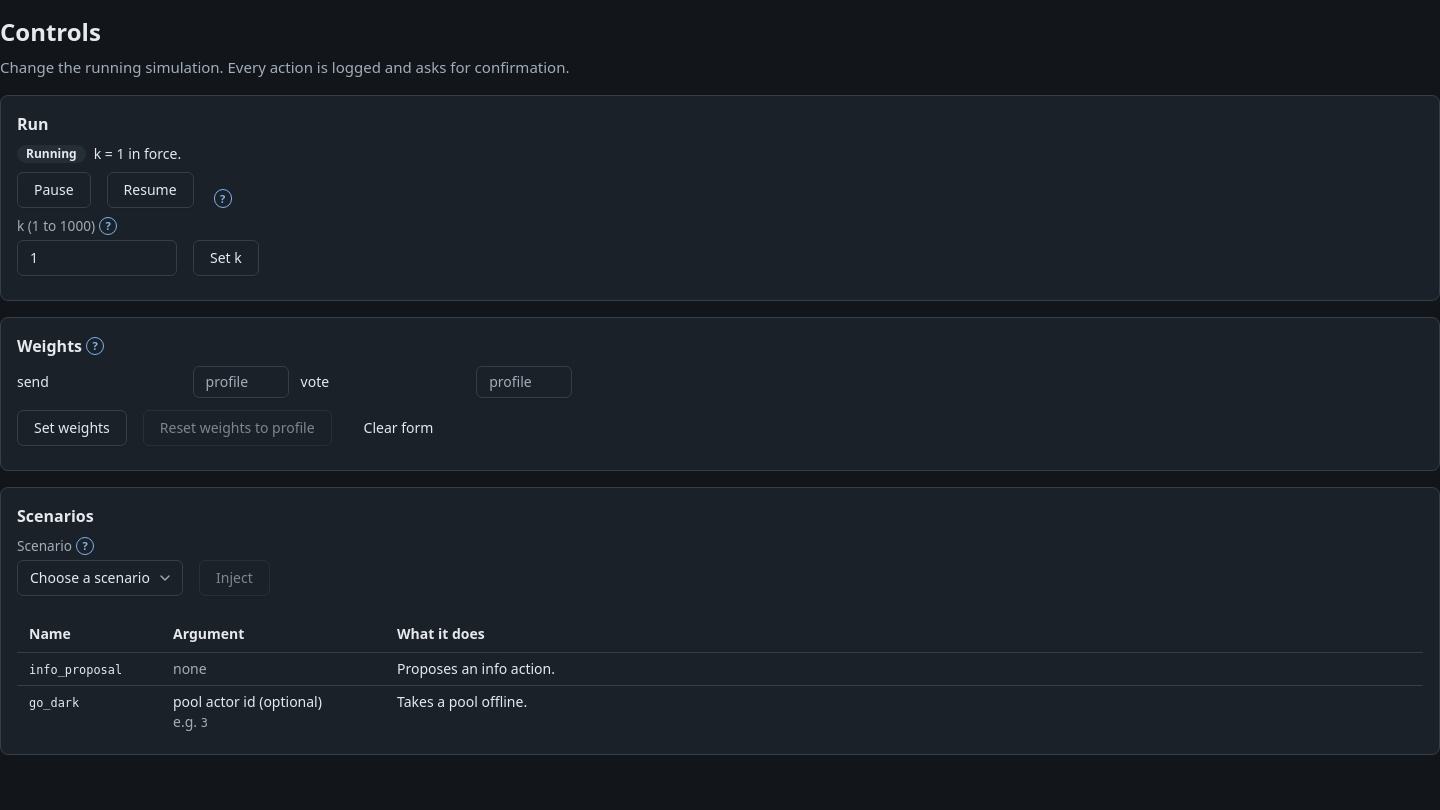
Test: controls form › after a post shows what the engine applied, not what was typed
Replace the text in the field with id "c-k" with "7" at (97, 258), box [17,240,177,276]
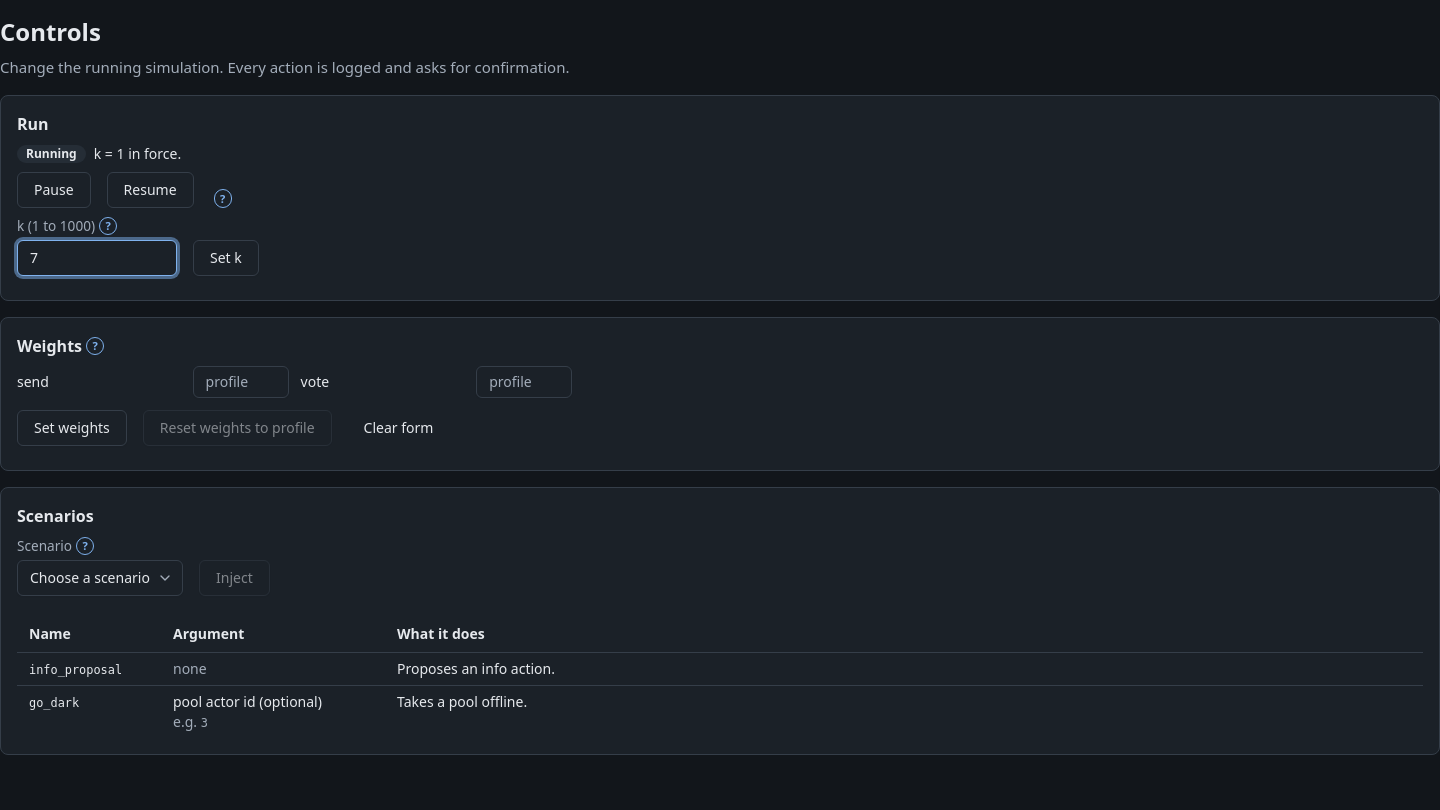
Click the button "Set k" at (226, 258), box [193,240,259,276]
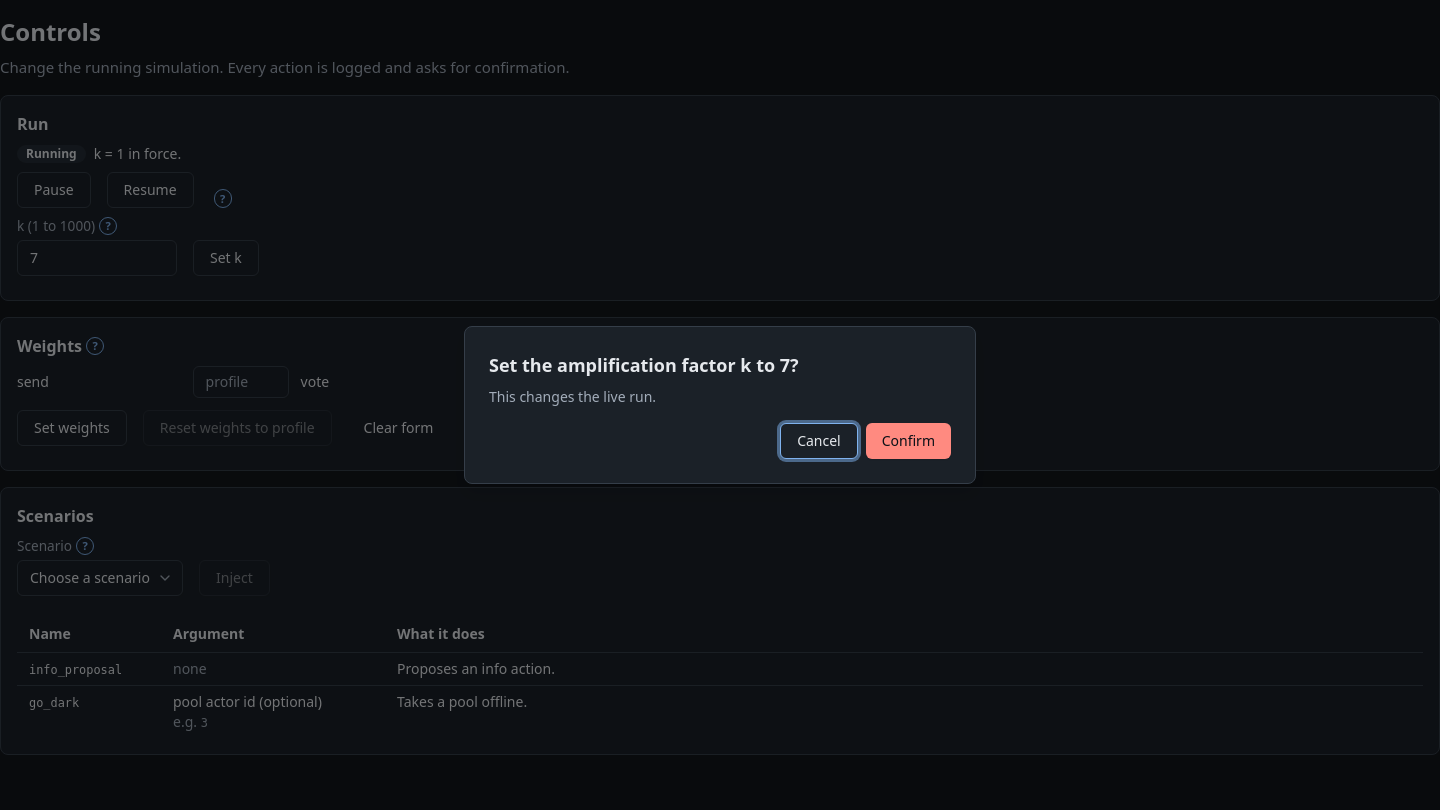
Click the button "Confirm" at (908, 441), box [866,423,951,459]
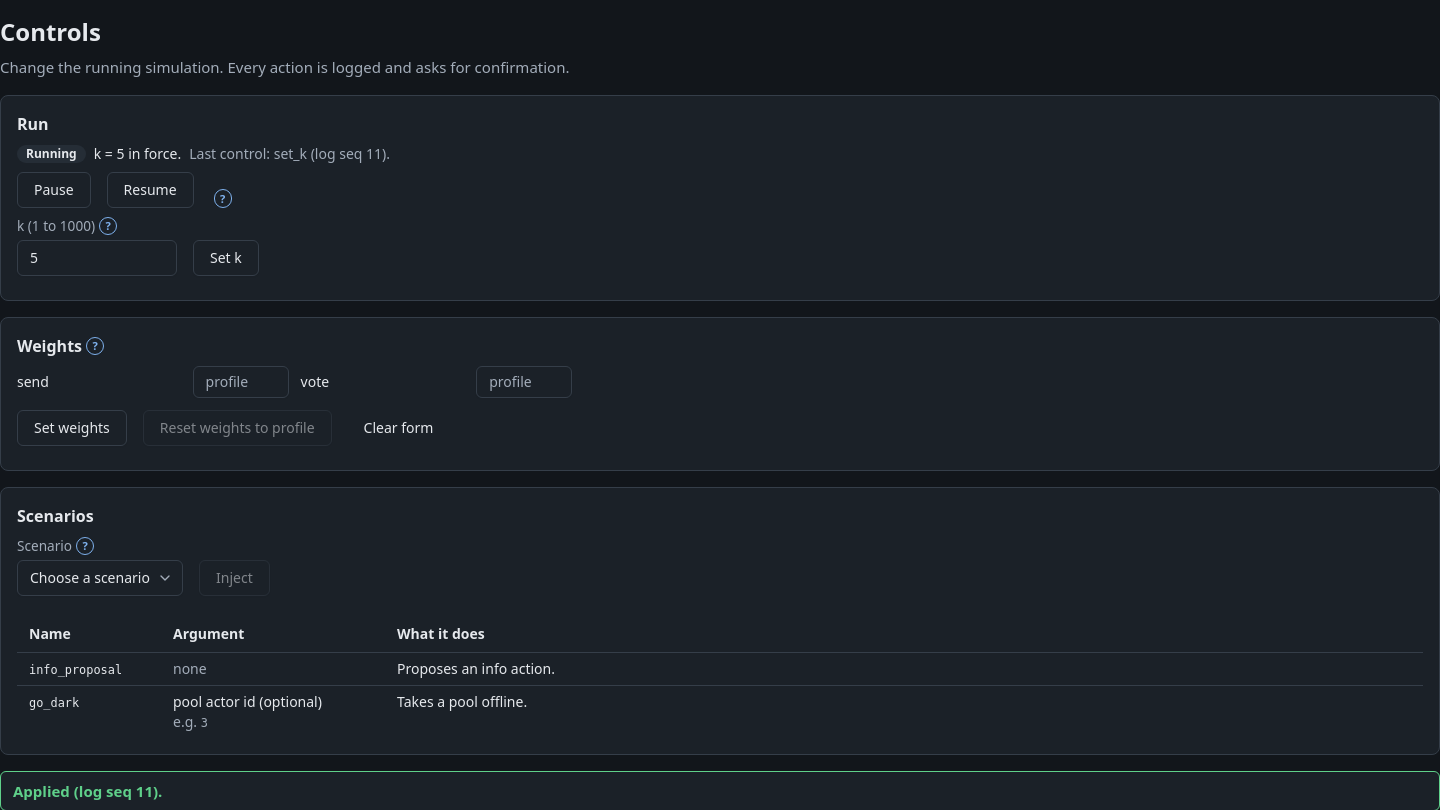
Check: the field with id "c-k" holds "5", box [17,240,177,276]
